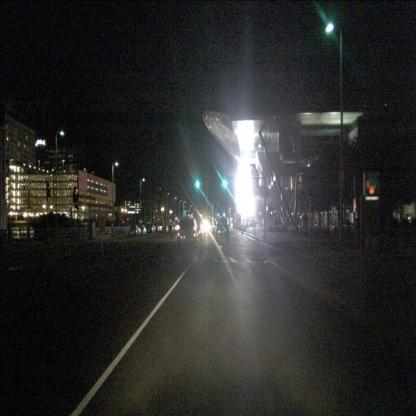vehicle-car: (178, 218, 198, 249), (215, 217, 229, 241), (192, 223, 204, 240), (212, 221, 223, 236), (128, 224, 141, 236), (138, 224, 146, 236), (146, 223, 154, 234), (168, 224, 174, 232), (162, 225, 167, 233)
